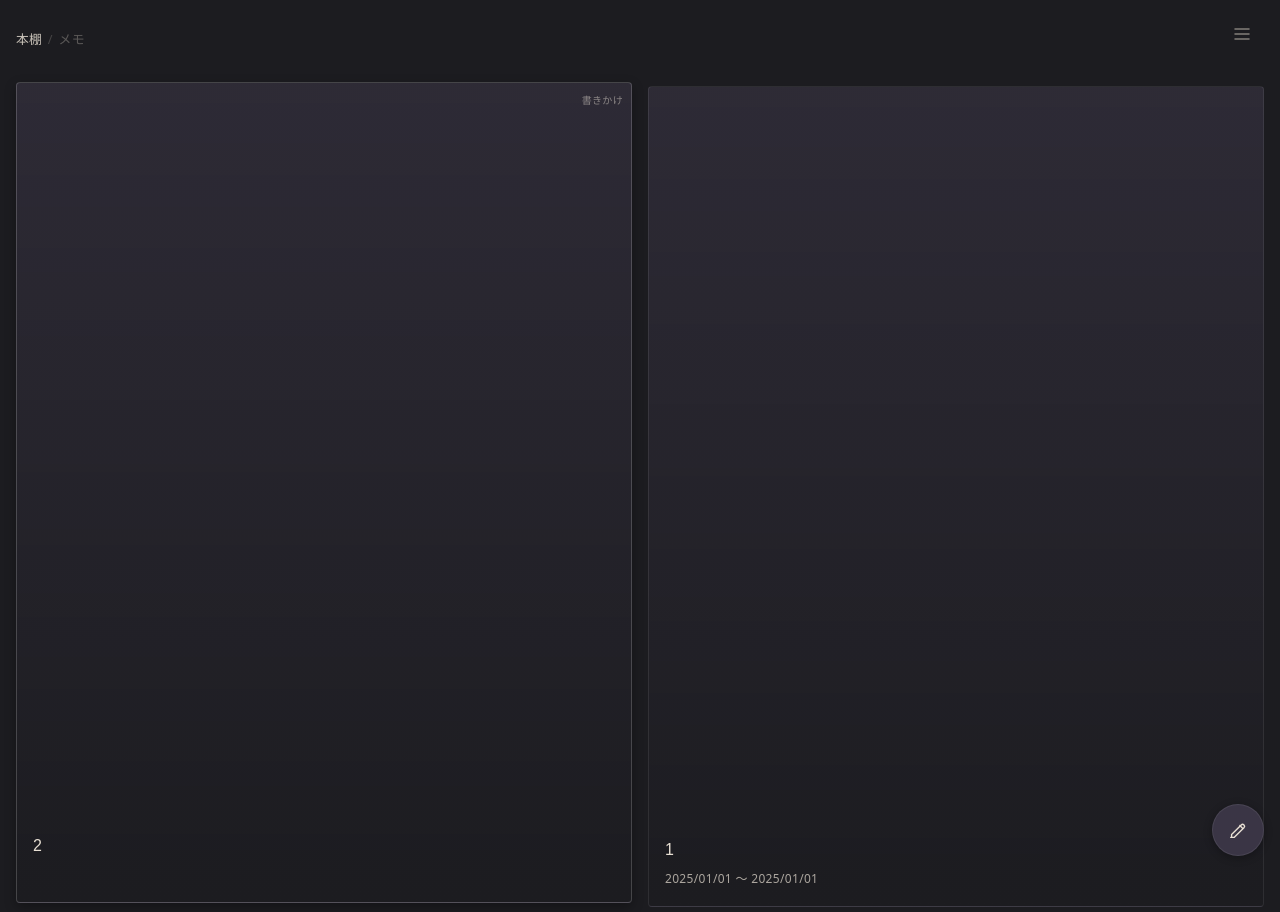
Scenario: BookshelfPage long-press delete (M8-4) › ページ 0 枚の冊は 1 段階 confirm で削除（2 冊 → 1 冊になる E2E）
This screenshot has width=1280, height=912.
Press the mouse on the link with aria-label "ノート 2" at (324, 492), box [16,82,632,903]
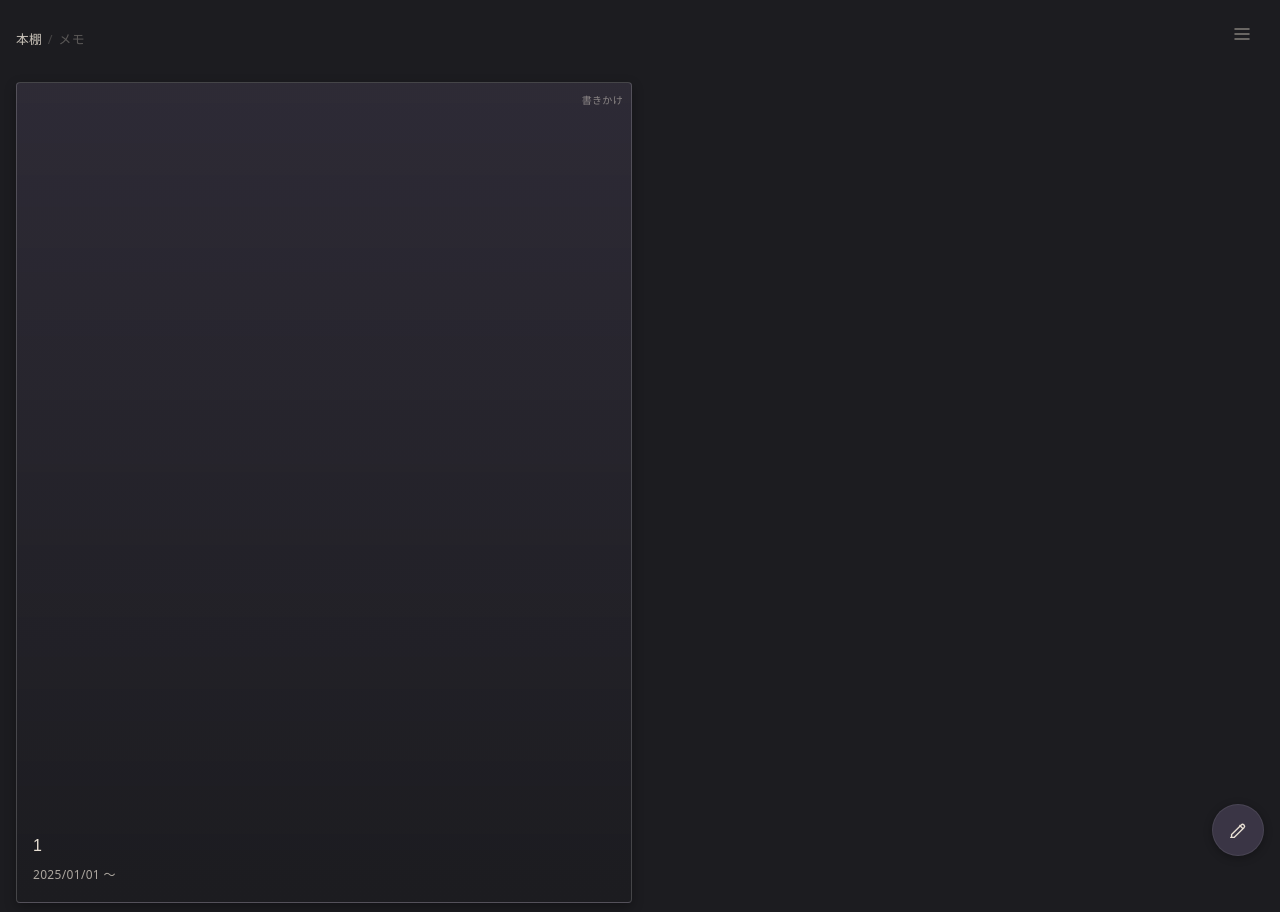
Check: the number of links "1 2025/01/01 〜 書きかけ" is 1, box [16,82,632,903]
